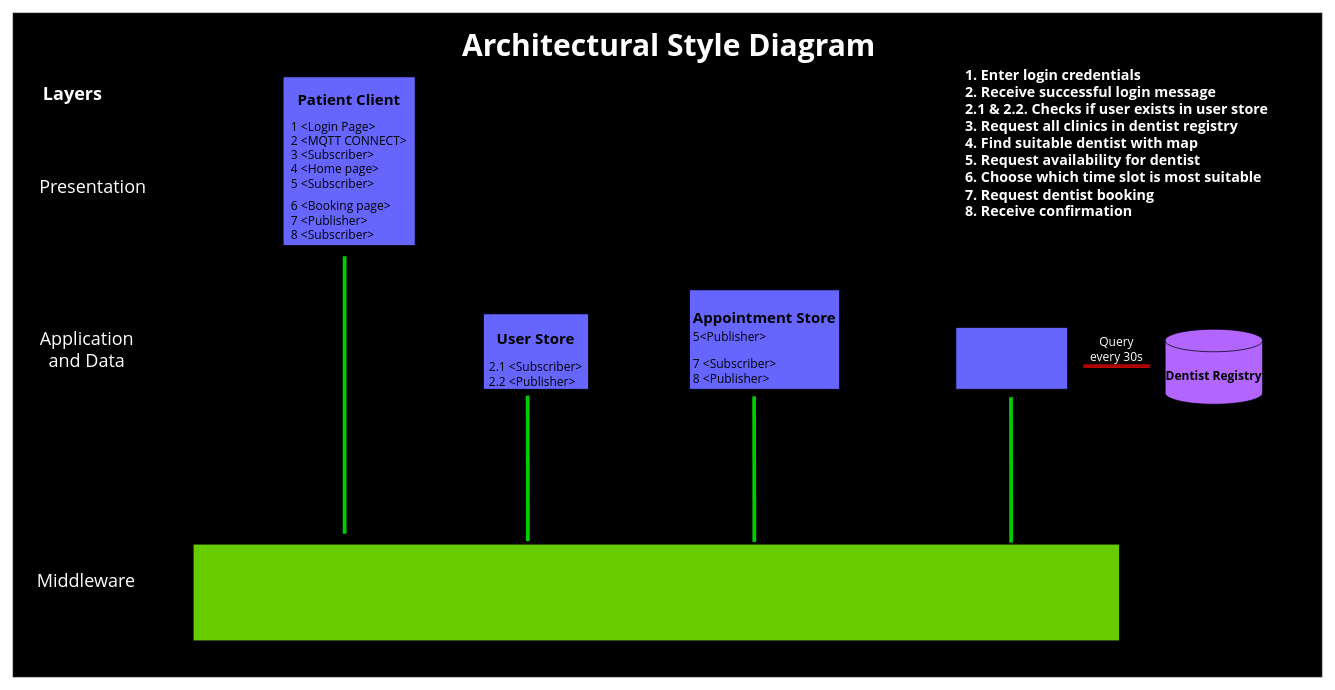
Some shapes in this 1335 by 690 pixel diagram are drawn without their labels. Each missing label, with the box of its shape:
Broker 2 <MQTT CONNACK> 2.1 <Publisher> 2.2 <Subscriber>: (192, 543, 1119, 641)
Dentist Store 3 <Publisher>: (955, 327, 1068, 389)
